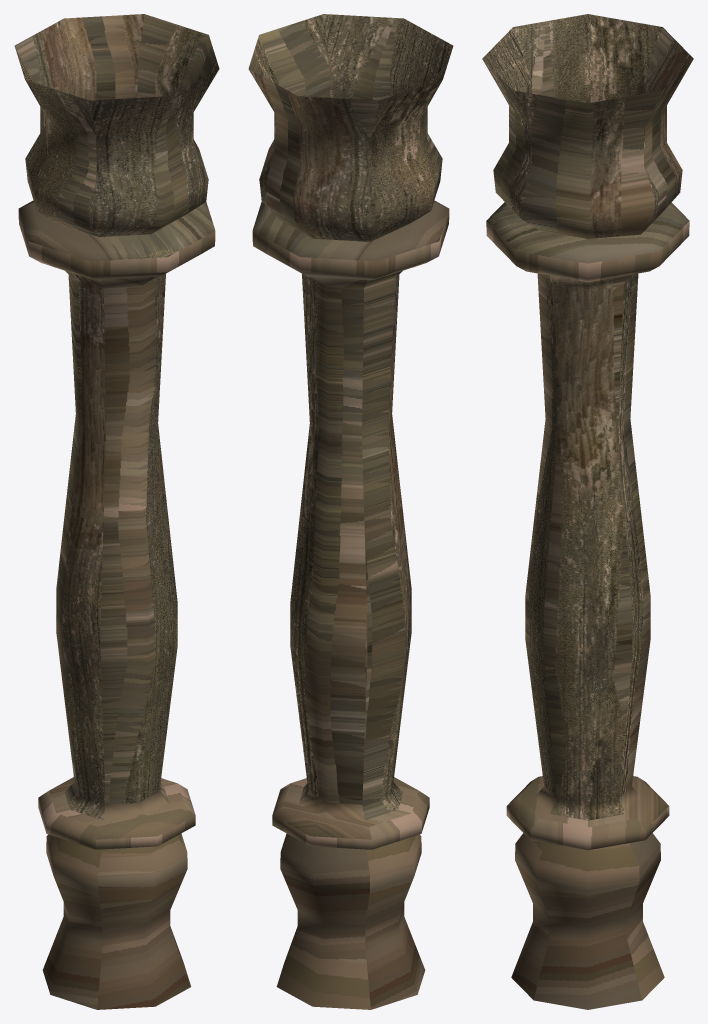
The model's file is PillarFancy.FBX.
The picture shows the model from 3 angles, left to right: view 1: azimuth 30°, elevation 25°; view 2: azimuth 150°, elevation 25°; view 3: azimuth 270°, elevation 25°; orthographic projection.
Parts seen in each view (by area): view 1: PillarFancy; view 2: PillarFancy; view 3: PillarFancy.
Boxes of the visible parts, box(x1,y1,x2,y2) form: PillarFancy: box(14, 14, 219, 1009); PillarFancy: box(248, 14, 453, 1009); PillarFancy: box(482, 14, 693, 1009).
Bounding box in the file's own units: 66.83 × 66.83 × 320.
Materials: 1 (1 with a texture image).
